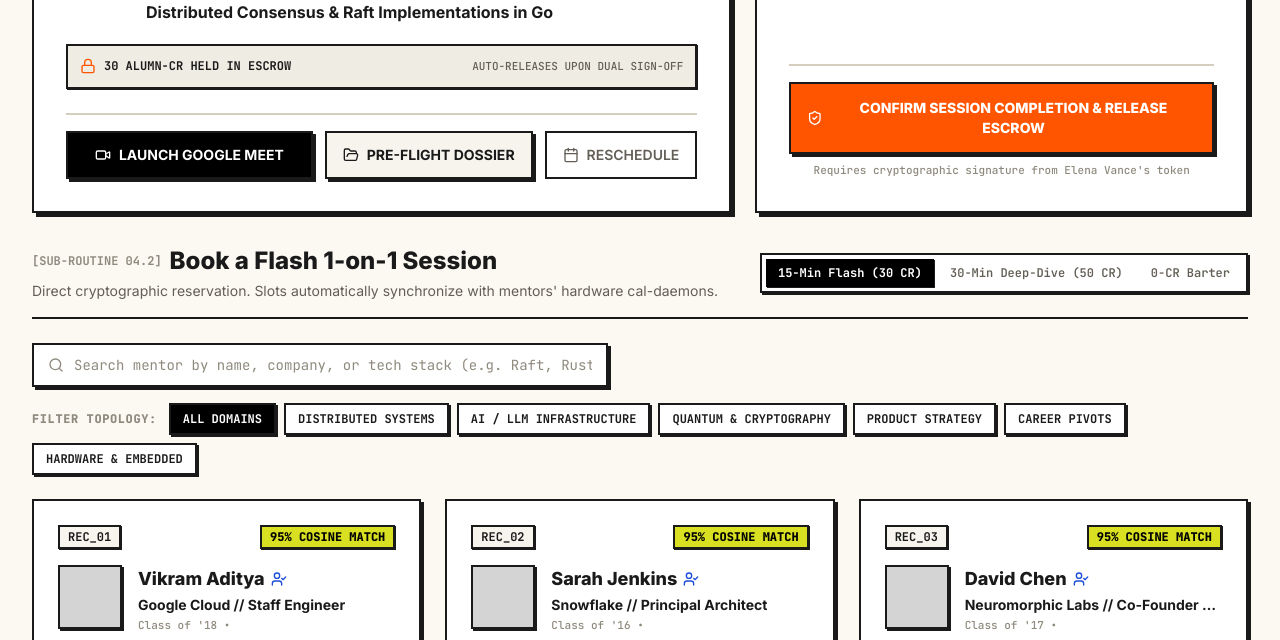
Test: MentorshipContent (Stitch Screen 7 Neobrutalist Redesign) › switches duration modes and reflects credit updates
(page scrolled)
# Switch to 30-Min Deep-Dive (50 CR)
Click the button "30-Min Deep-Dive (50 CR)" at (1036, 272), box [938,258,1135,286]
(page scrolled)
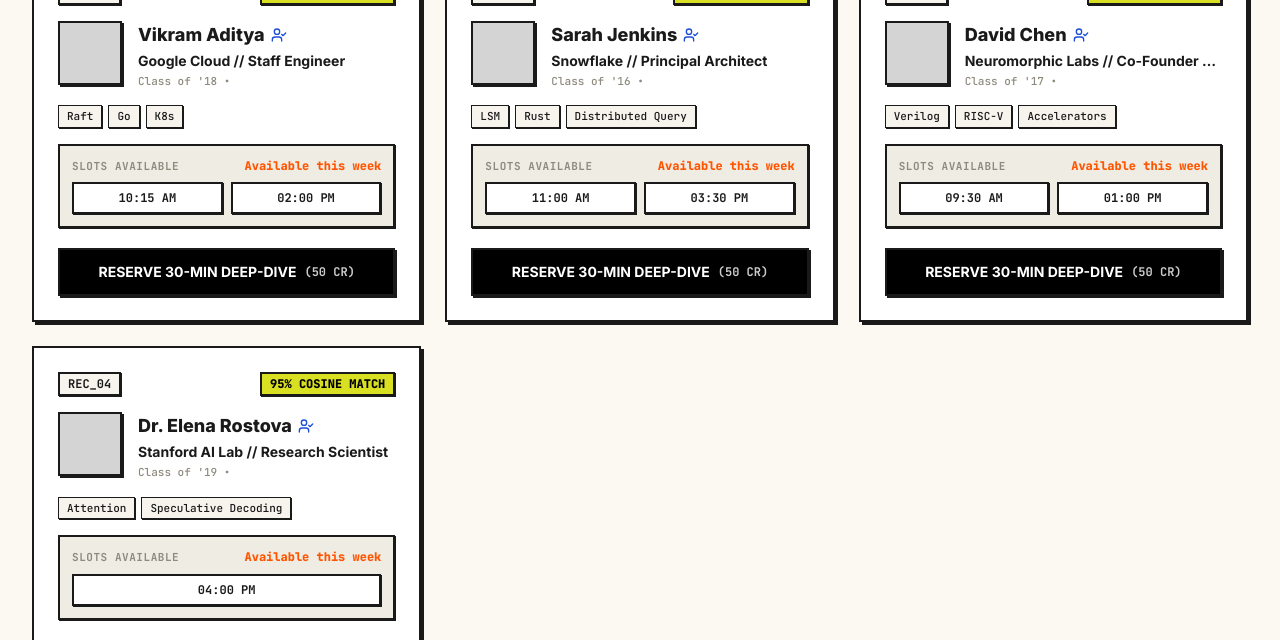
Now the text "RESERVE 30-MIN DEEP-DIVE" below "K8s" is shown, box [98,263,296,280]
